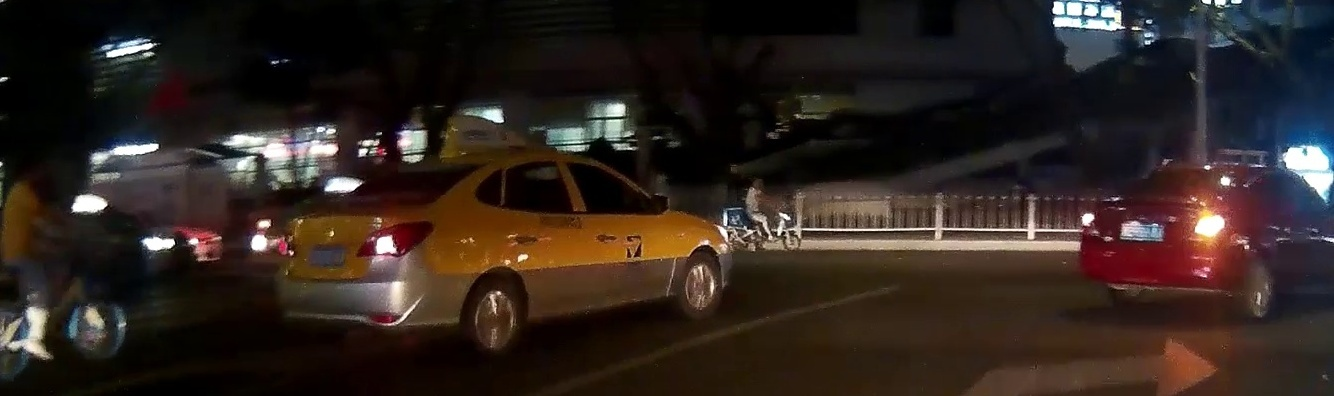L_light: (275, 230, 295, 256), (1081, 212, 1102, 235)
R_light: (355, 220, 435, 260), (1187, 215, 1225, 241)
T_light: (397, 169, 431, 179), (1183, 168, 1210, 176)
night-right: (274, 151, 488, 357), (1080, 162, 1255, 318)
